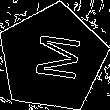M_W: (24, 32, 81, 84)
